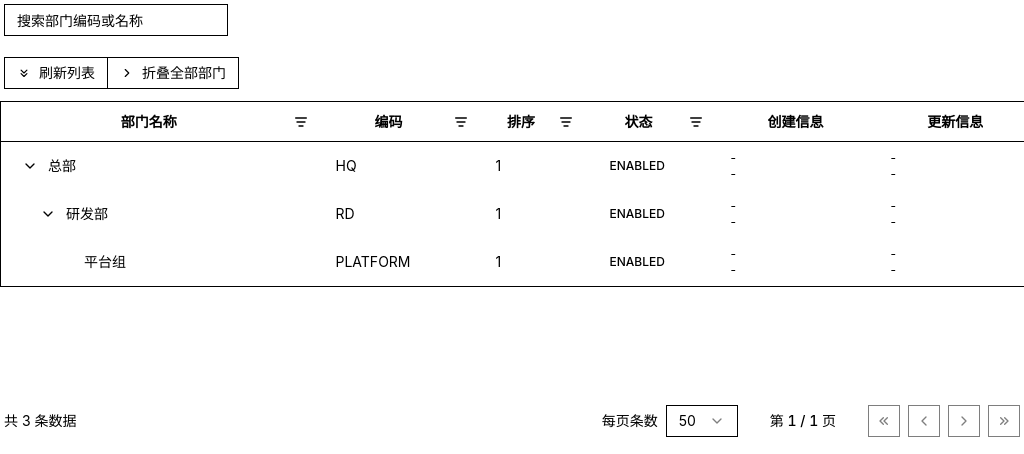
DeptDataTable tree expansion › 默认展示完整部门树，并允许单独折叠父部门
Expected: the text "研发部" is shown, left=66, top=204, right=108, bottom=224
Expected: the text "平台组" is shown, left=84, top=252, right=126, bottom=272
Step 1. Click the button named "折叠 总部" → (30, 166), box left=16, top=152, right=44, bottom=180
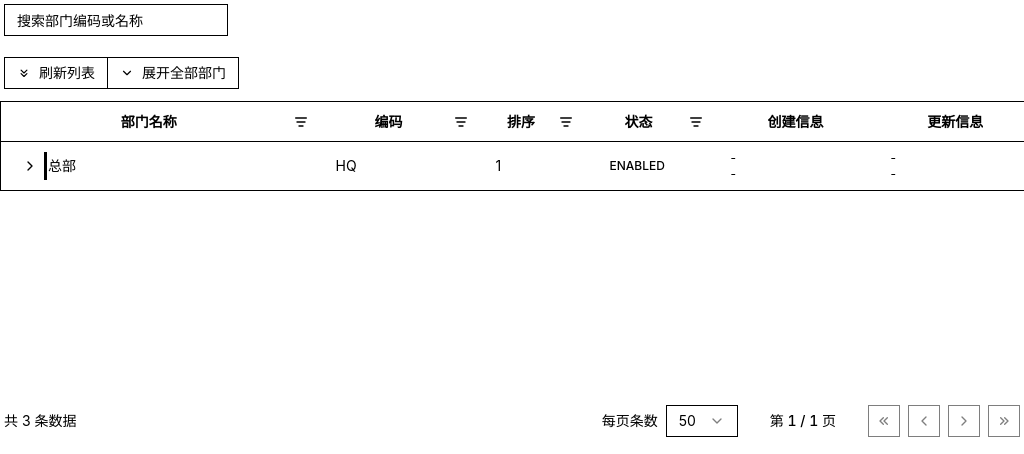
Now the button "研发部" is gone
Now the button "平台组" is gone
Now the button named "展开 总部" is collapsed, box left=16, top=152, right=44, bottom=180
